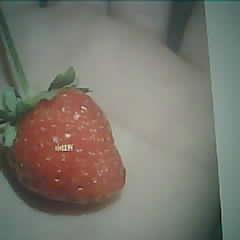straw-ripe: (8, 88, 126, 202)
